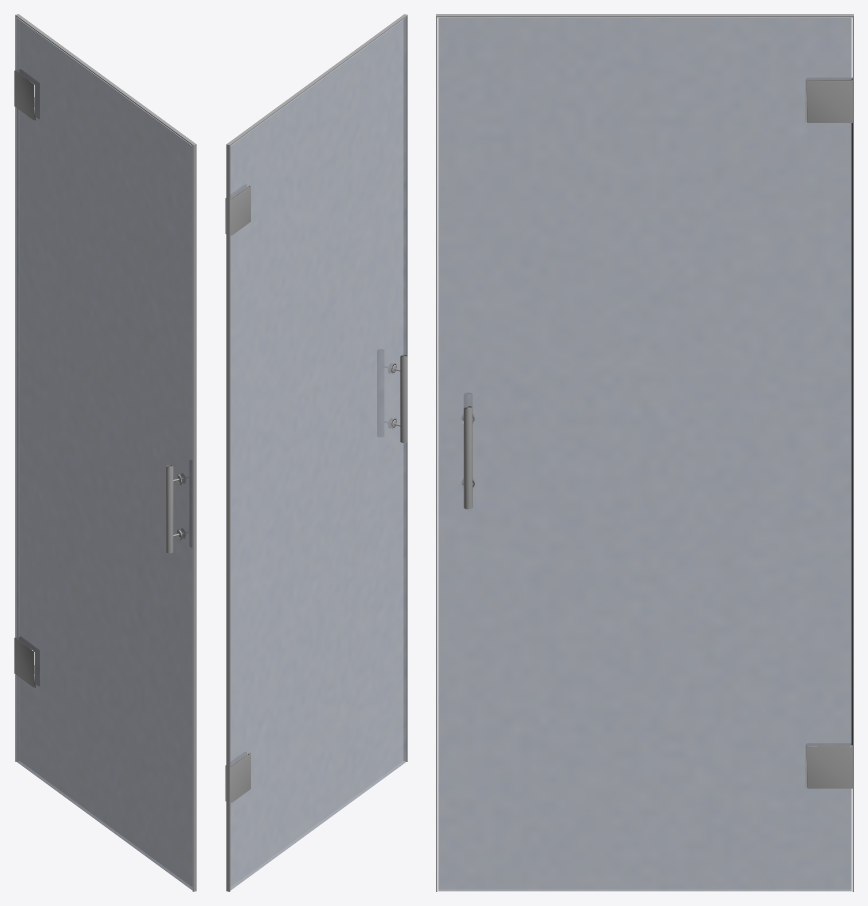
File: glass door.fbx
3 renders of one model, left to right at view 1: azimuth 30°, elevation 25°; view 2: azimuth 150°, elevation 25°; view 3: azimuth 270°, elevation 25°, orthographic. The views are drawn at different scales.
Parts seen in each view (by area): view 1: glass_door_framless:_15; view 2: glass_door_framless:_15; view 3: glass_door_framless:_15.
Part boxes in pixels (bbox=[...]): glass_door_framless:_15: bbox=[14, 14, 196, 891]; glass_door_framless:_15: bbox=[225, 14, 407, 891]; glass_door_framless:_15: bbox=[436, 14, 853, 891].
Bounding box in the file's own units: 8.86 × 211 × 91.
5 materials, 1 textured.
